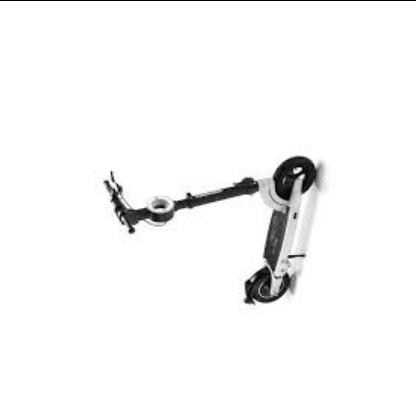bike: (103, 156, 321, 306)
